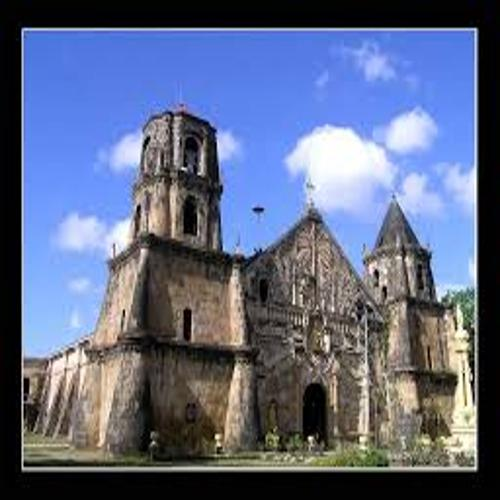Miagao Church: (98, 89, 474, 457)
